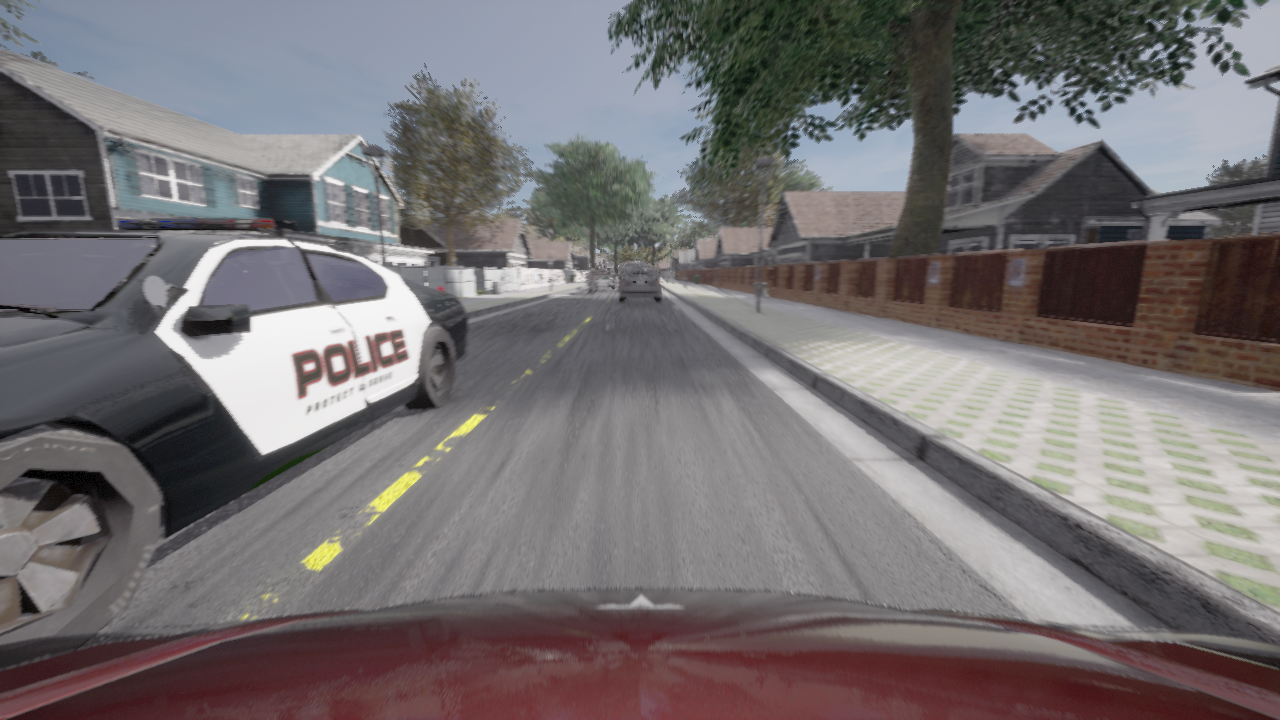cyclist: (0, 218, 468, 644), (0, 588, 1279, 719), (619, 265, 660, 302), (619, 261, 645, 283), (595, 269, 616, 289), (585, 273, 599, 294)
